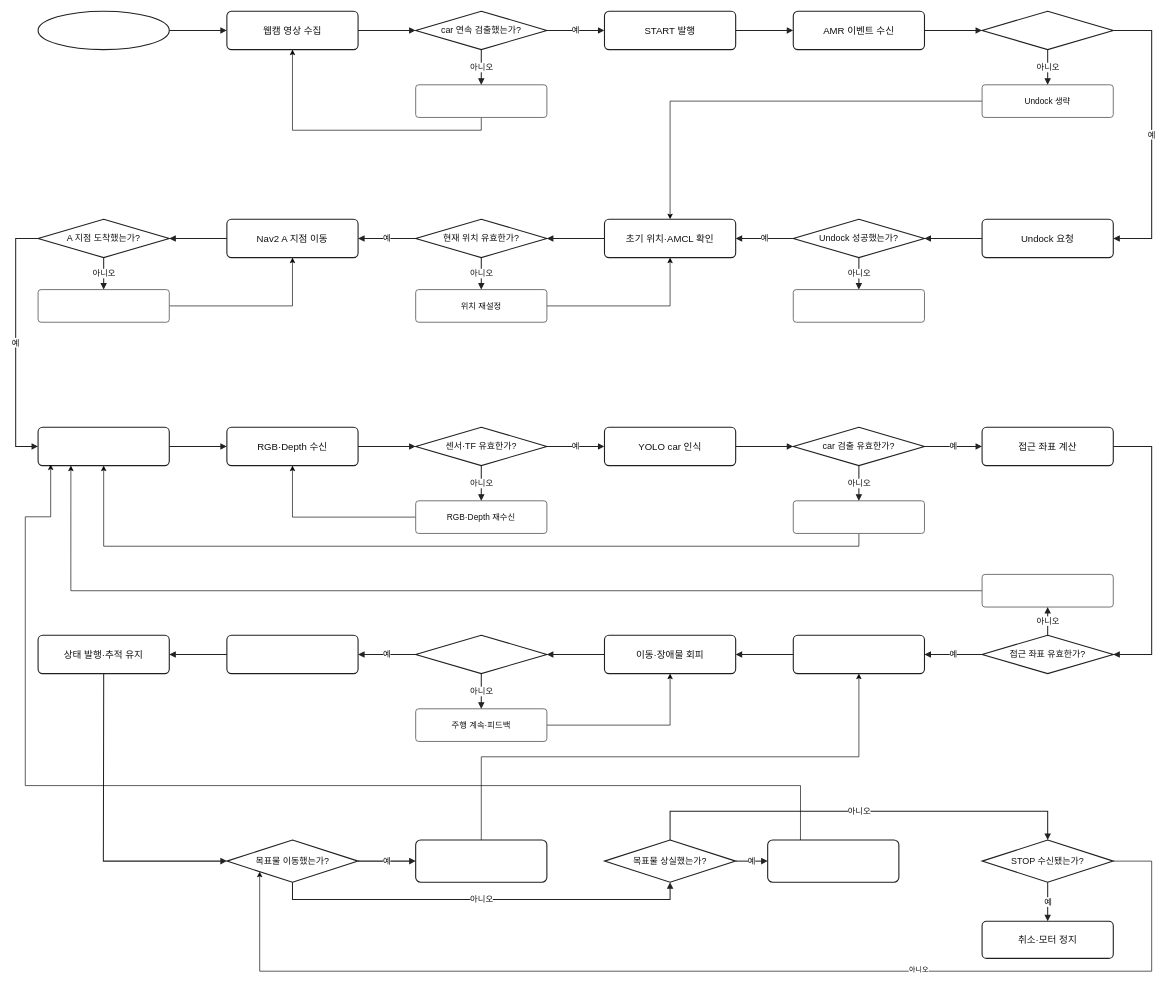
The diagram is 1169 pixels wide and 993 high, and some of its shapes have lost their labels. Each missing label, with the box of its shape:
HOLD·중앙 정렬: (226, 634, 358, 674)
Nav2 결과 확인: (37, 289, 169, 322)
Nav2 접근 목표 전송: (792, 634, 925, 674)
계속 감시: (415, 84, 547, 118)
도킹 중인가?: (981, 10, 1114, 50)
목표 지점 도착했는가?: (415, 634, 547, 674)
목표점 재계산: (415, 839, 547, 882)
시작: (37, 10, 170, 50)
안전 정지·오류 기록: (793, 289, 925, 322)
접근 보류·재탐색: (981, 574, 1113, 607)
제자리 회전 탐색: (37, 426, 170, 466)
회전 재탐색: (767, 839, 899, 882)
회전·재탐색: (793, 500, 925, 534)
